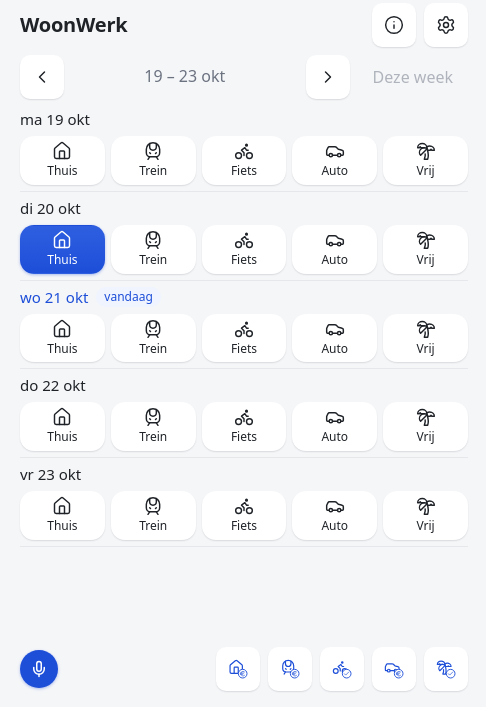
Test case: AC47: inspreken met de microfoonknop › vervangt wat er al stond, en de eerste zin die klopt telt
Click the button named "Inspreken" at (39, 669), box [20,650,58,688]
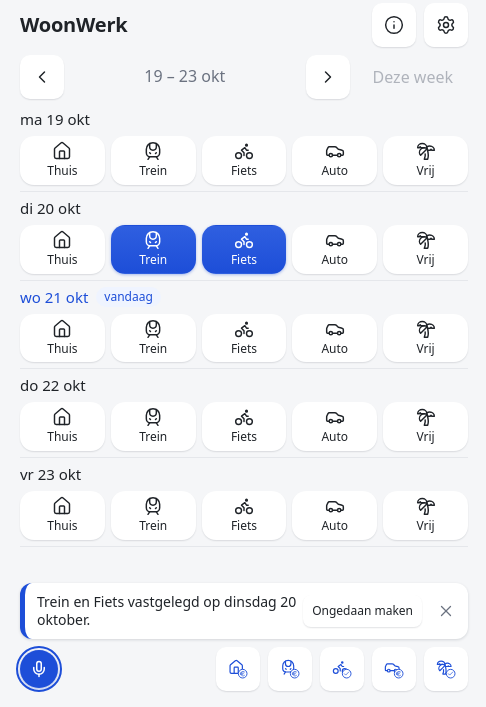
Result: the message reads "Trein en Fiets vastgelegd op dinsdag 20 oktober." at [37,592,296,629]
